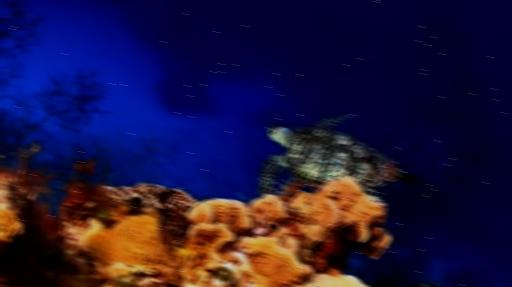Fish: (259, 115, 417, 194)
